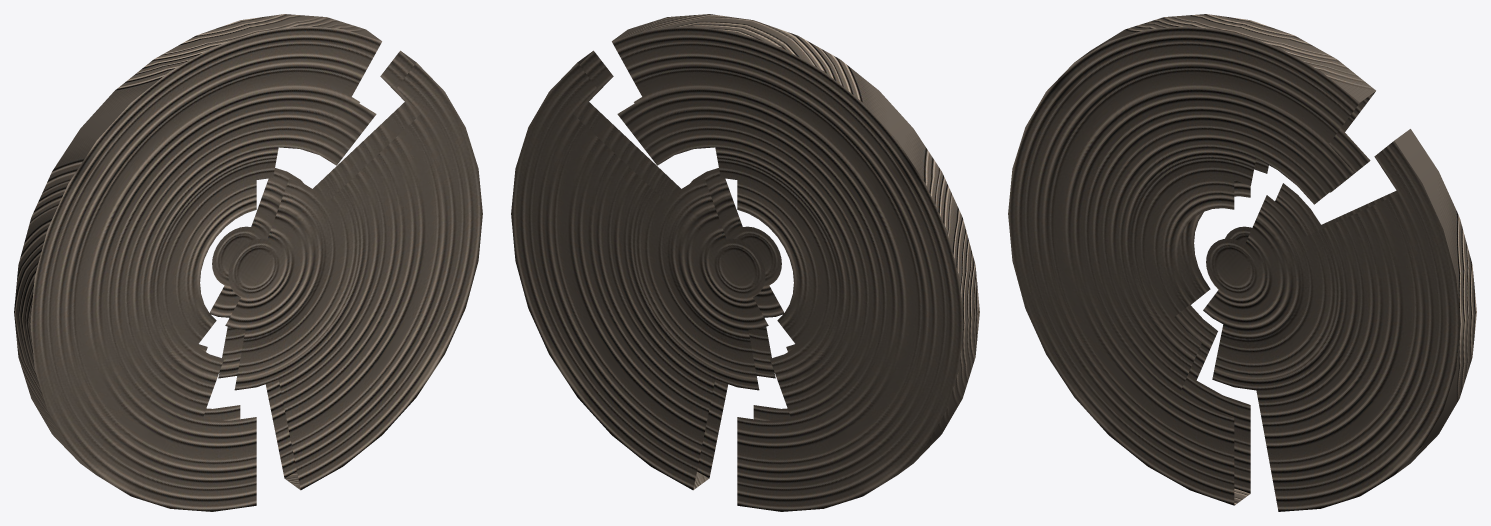
The model's file is gong.fbx.
The picture shows the model from 3 angles, left to right: view 1: azimuth 30°, elevation 25°; view 2: azimuth 150°, elevation 25°; view 3: azimuth 330°, elevation 25°; orthographic projection.
Parts seen in each view (by area): view 1: pCylinder1; view 2: pCylinder1; view 3: pCylinder1.
Part boxes in pixels (x1,y1,x2,y2): pCylinder1: [14, 14, 482, 511]; pCylinder1: [511, 14, 979, 511]; pCylinder1: [1008, 14, 1476, 511].
Size of the model in its own units: 4 by 4 by 0.25.
Materials: 1 (1 with a texture image).
